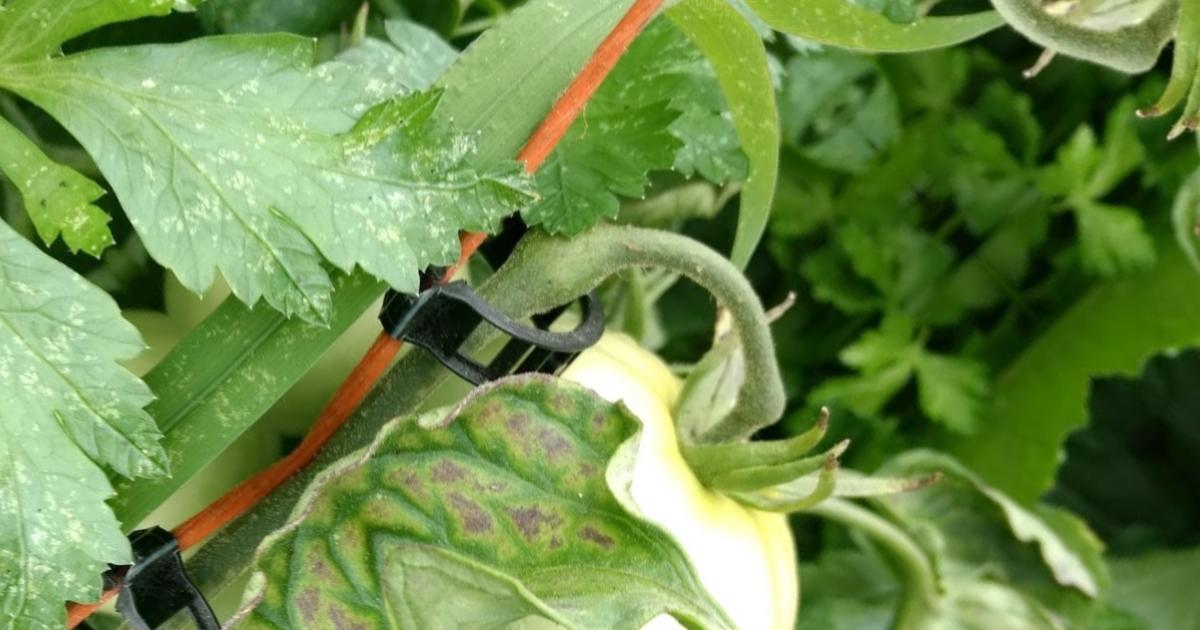Tomato leaf mosaic virus: (0, 0, 542, 416)
